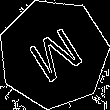M_SE: (21, 20, 86, 87)
